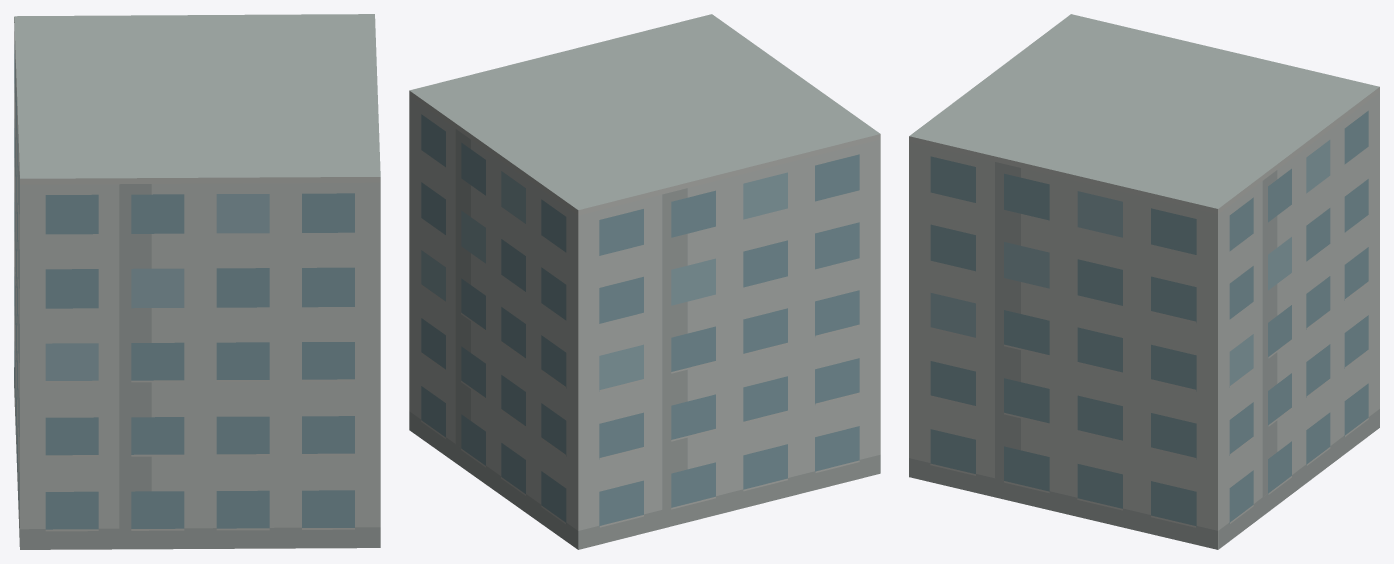
Rendered from survey-upis-32877640.glb.
3 renders of one model, left to right at view 1: azimuth 30°, elevation 25°; view 2: azimuth 150°, elevation 25°; view 3: azimuth 270°, elevation 25°, orthographic. The views are drawn at different scales.
Parts seen in each view (by area): view 1: survey-upis-32877640.tmp; view 2: survey-upis-32877640.tmp; view 3: survey-upis-32877640.tmp.
Part boxes in pixels (bbox=[...]): survey-upis-32877640.tmp: bbox=[14, 14, 380, 549]; survey-upis-32877640.tmp: bbox=[409, 14, 880, 549]; survey-upis-32877640.tmp: bbox=[909, 14, 1379, 549].
Size of the model in its own units: 18.71 by 15.25 by 19.09.
